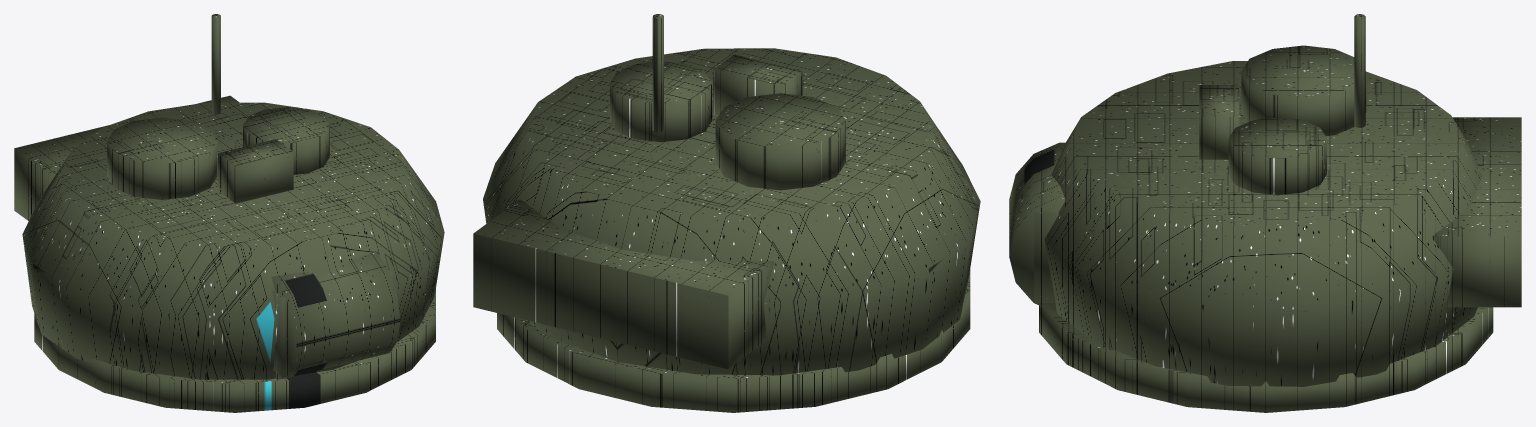
The model's file is medium_tank_turret.obj.
3 renders of one model, left to right at view 1: azimuth 30°, elevation 25°; view 2: azimuth 150°, elevation 25°; view 3: azimuth 270°, elevation 25°, orthographic. The views are drawn at different scales.
Parts seen in each view (by area): view 1: TurretArmor; view 2: TurretArmor; view 3: TurretArmor.
Boxes of the visible parts, x1,y1,x2,y2 form: TurretArmor: (14, 14, 444, 412); TurretArmor: (473, 14, 980, 412); TurretArmor: (1009, 14, 1521, 412).
Size of the model in its own units: 2.16 by 1.54 by 2.3.
